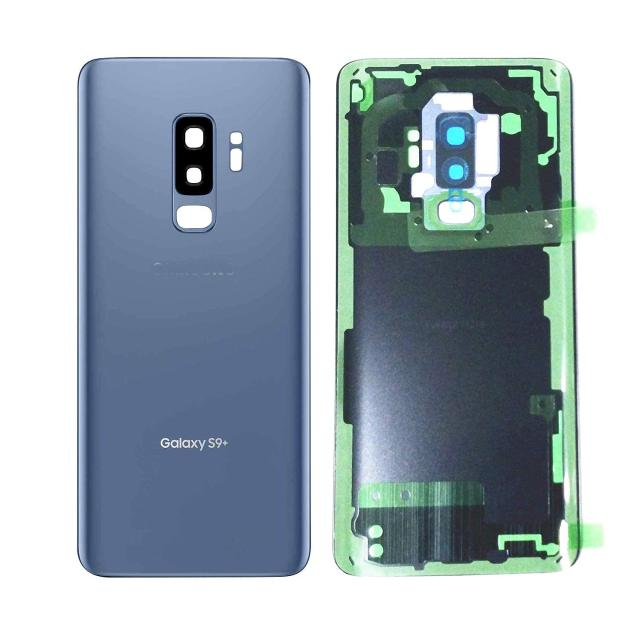mobile phone: (333, 57, 581, 577), (76, 56, 310, 578)
